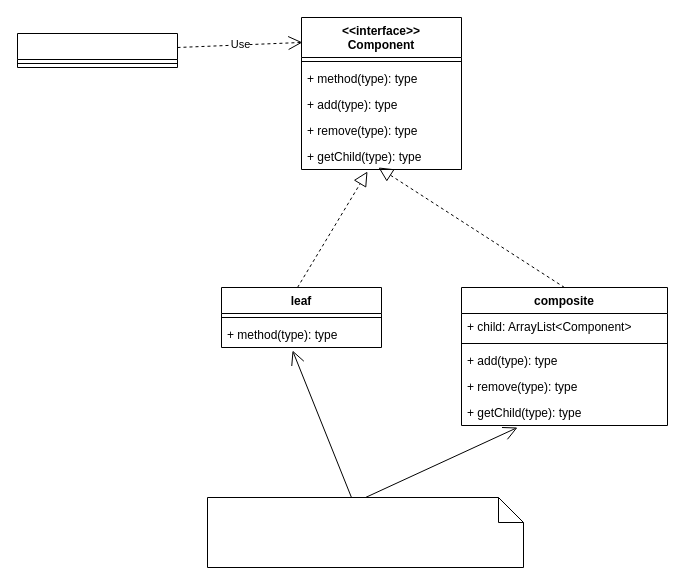
Some shapes in this 685 by 585 pixel diagram are drawn without their labels. The centre of each missing label's shape, as x and y in pixels:
Client: the point at 97,50
虽然实现了Component接口，但是只实现与该节点有关的方法，而无关的接口我们可以让他空实现: the point at 365,532
